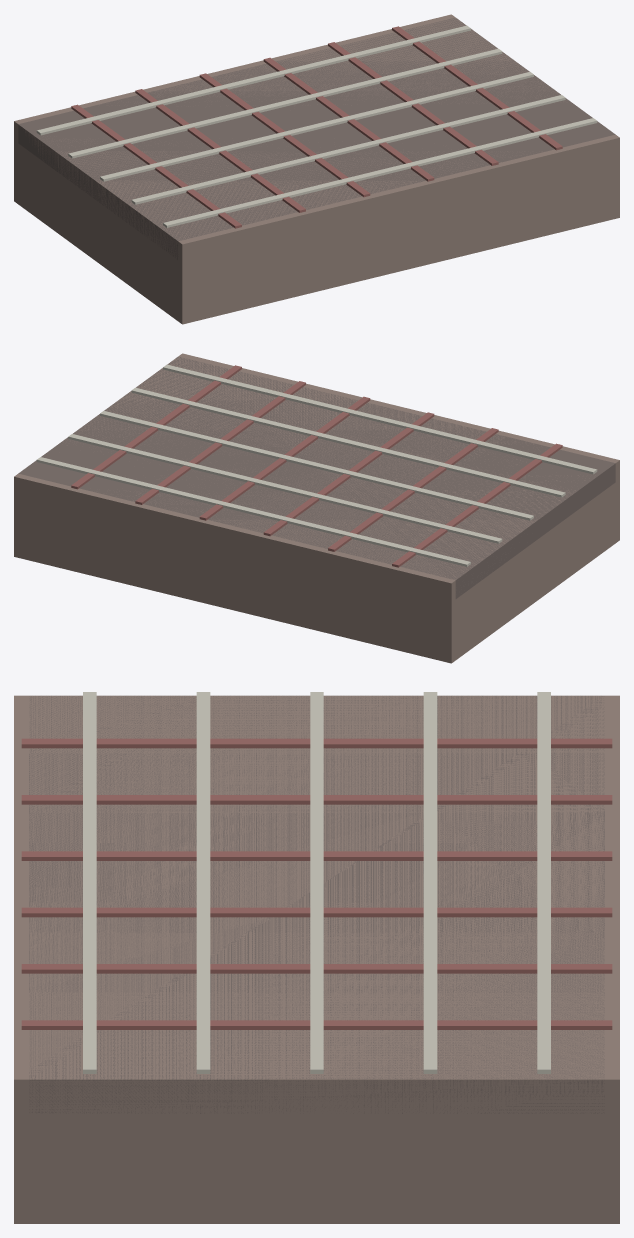
File: decke_gefaltet.glb
3 views of the same model, one above another, from view 1: azimuth 30°, elevation 25°; view 2: azimuth 150°, elevation 25°; view 3: azimuth 270°, elevation 25° (orthographic). The views are drawn at different scales.
Parts seen in each view (by area): view 1: decke_gefaltet_n1; view 2: decke_gefaltet_n1; view 3: decke_gefaltet_n1.
Boxes of the visible parts, x1,y1,x2,y2 form: decke_gefaltet_n1: (14,14,619,324); decke_gefaltet_n1: (14,353,619,663); decke_gefaltet_n1: (14,692,619,1223).
Size of the model in its own units: 0.6 by 0.11 by 0.4.
